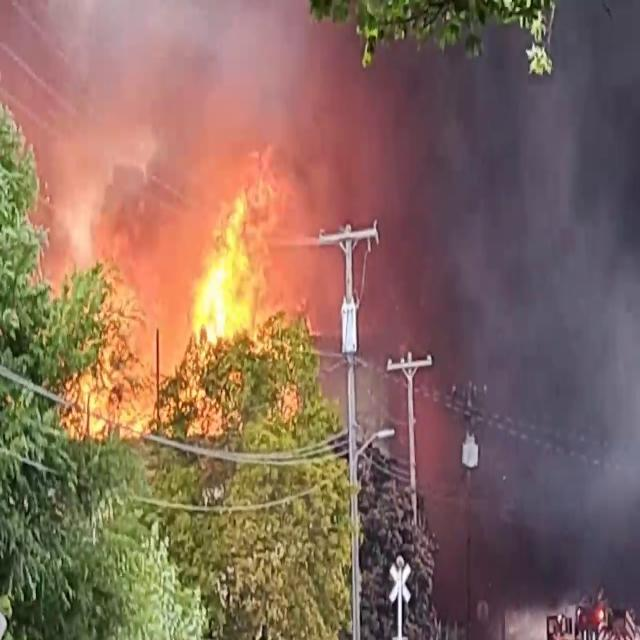Fire: (67, 145, 299, 443)
Smoke: (349, 6, 640, 526)
